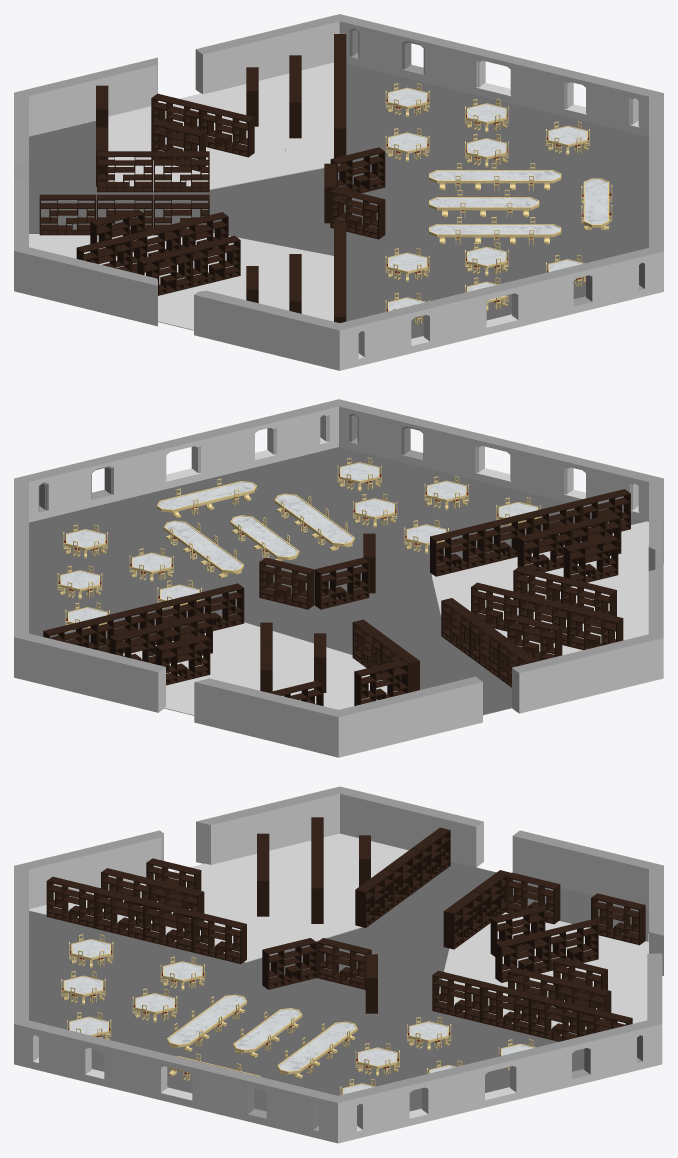
File: LIBRARY.fbx
The picture shows the model from 3 angles, top to bottom: view 1: azimuth 30°, elevation 25°; view 2: azimuth 150°, elevation 25°; view 3: azimuth 270°, elevation 25°; orthographic projection.
Visible parts, largest first — view 1: Plane.009, Plane.015, Plane.016, Cube.738, Objeto_177.012, Objeto_177.011, Cube.827, Cube.843, Cube.837, Cube.815, Cube.845, Cube.835 (+20 smaller); view 2: Plane.009, Plane.015, Plane.016, Cube.738, Cube.835, Cube.833, Cube.799, Objeto_177.011, Objeto_177.012, Cube.787, Cube.809, Objeto_177.014 (+37 smaller); view 3: Plane.009, Plane.015, Plane.016, Cube.738, Cube.837, Cube.803, Cube.797, Cube.801, Cube.795, Cube.799, Cube.793, Objeto_177.012 (+38 smaller).
Boxes of the visible parts, x1=… form: Plane.009: x1=14, y1=14, x2=663, y2=370; Plane.015: x1=29, y1=63, x2=648, y2=338; Plane.016: x1=29, y1=62, x2=340, y2=330; Cube.738: x1=385, y1=83, x2=589, y2=324; Objeto_177.012: x1=429, y1=170, x2=561, y2=183; Objeto_177.011: x1=429, y1=224, x2=561, y2=237; Cube.827: x1=192, y1=240, x2=239, y2=286; Cube.843: x1=97, y1=157, x2=152, y2=191; Cube.837: x1=331, y1=192, x2=378, y2=238; Cube.815: x1=200, y1=110, x2=247, y2=156; Cube.845: x1=154, y1=157, x2=208, y2=191; Cube.835: x1=337, y1=152, x2=384, y2=197; Plane.009: x1=14, y1=399, x2=663, y2=757; Plane.015: x1=29, y1=447, x2=644, y2=715; Plane.016: x1=123, y1=521, x2=648, y2=715; Cube.738: x1=57, y1=457, x2=540, y2=631; Cube.835: x1=260, y1=562, x2=307, y2=608; Cube.833: x1=321, y1=562, x2=368, y2=608; Cube.799: x1=436, y1=530, x2=483, y2=575; Objeto_177.011: x1=274, y1=493, x2=354, y2=546; Objeto_177.012: x1=163, y1=520, x2=243, y2=573; Cube.787: x1=570, y1=540, x2=617, y2=586; Cube.809: x1=162, y1=639, x2=209, y2=684; Objeto_177.014: x1=156, y1=481, x2=256, y2=512; Plane.009: x1=14, y1=786, x2=663, y2=1143; Plane.015: x1=29, y1=861, x2=648, y2=1111; Plane.016: x1=29, y1=833, x2=648, y2=1035; Cube.738: x1=61, y1=934, x2=535, y2=1094; Cube.837: x1=269, y1=943, x2=316, y2=988; Cube.803: x1=481, y1=987, x2=528, y2=1033; Cube.797: x1=144, y1=905, x2=191, y2=951; Cube.801: x1=433, y1=976, x2=480, y2=1021; Cube.795: x1=96, y1=893, x2=143, y2=939; Cube.799: x1=193, y1=917, x2=240, y2=963; Cube.793: x1=47, y1=881, x2=94, y2=927; Objeto_177.012: x1=277, y1=1021, x2=357, y2=1074.
Bounding box in the file's own units: 4369 × 5036 × 304.
